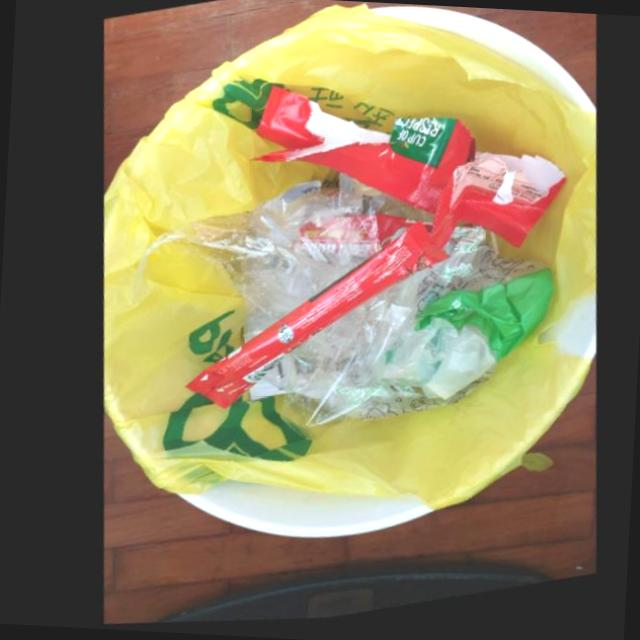bao_bi_thuc_pham: (242, 88, 557, 255), (181, 226, 443, 412)
tui_ni_long: (261, 233, 546, 430), (138, 184, 372, 349)
